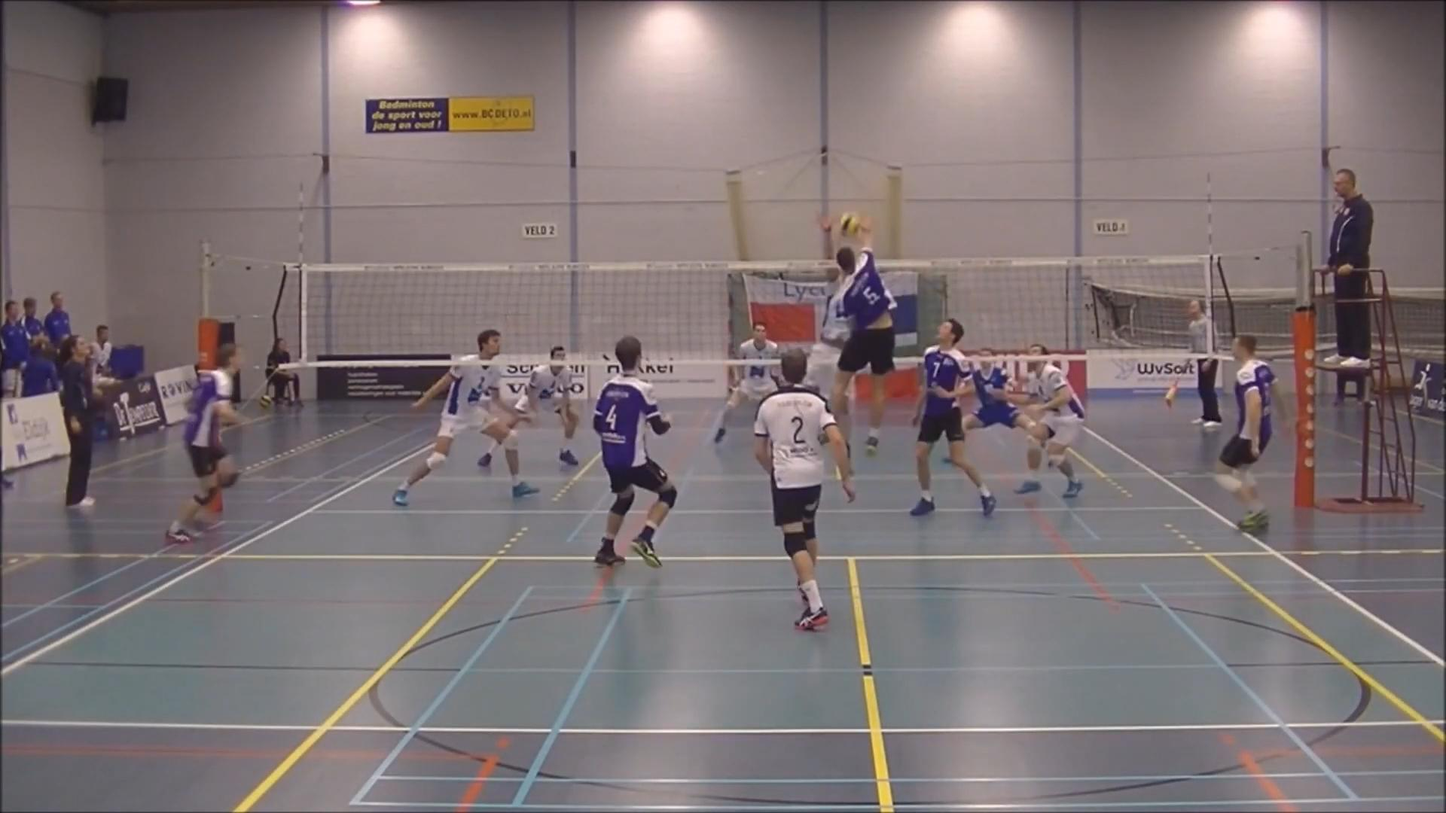Attack: (823, 211, 902, 452)
Player: (754, 349, 855, 630), (394, 329, 537, 506), (593, 336, 677, 568), (911, 318, 992, 516), (166, 344, 239, 544), (1216, 335, 1285, 531), (1015, 359, 1084, 498), (514, 346, 579, 466), (714, 322, 779, 442), (963, 349, 1033, 433)
ball: (839, 210, 858, 232)
